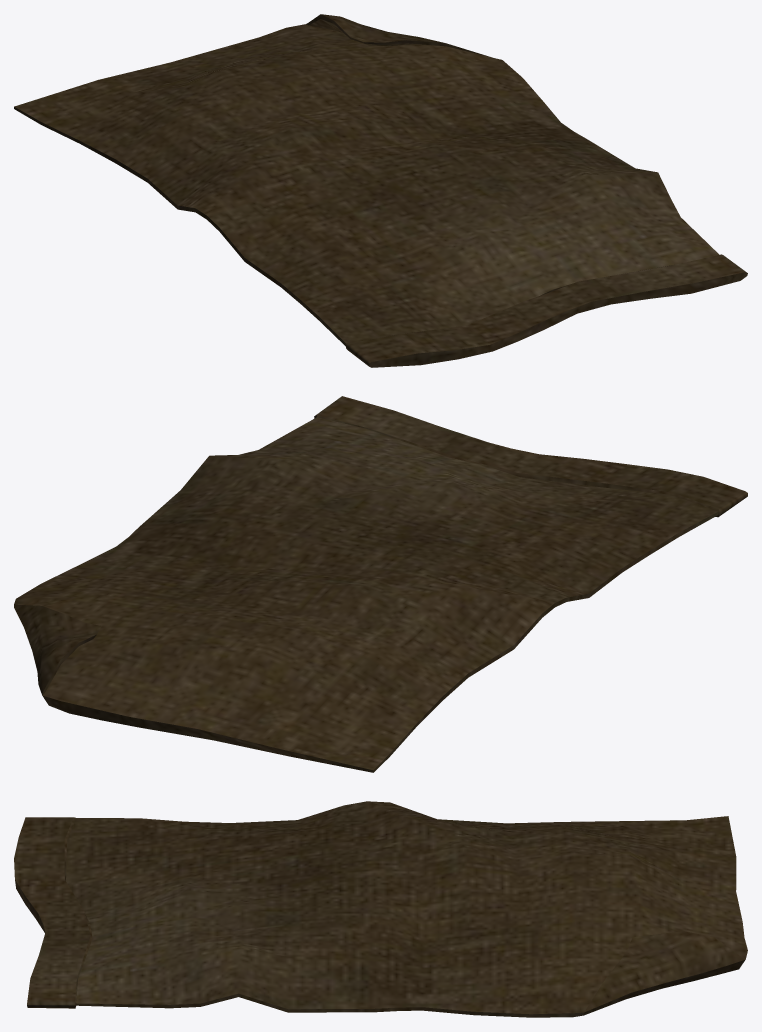
File: Sack04.fbx
3 renders of one model, top to bottom at view 1: azimuth 30°, elevation 25°; view 2: azimuth 150°, elevation 25°; view 3: azimuth 270°, elevation 25°, orthographic. The views are drawn at different scales.
Visible parts, largest first — view 1: Sack04; view 2: Sack04; view 3: Sack04.
Boxes of the visible parts, x1,y1,x2,y2 form: Sack04: (14,14,747,367); Sack04: (14,396,747,772); Sack04: (14,801,747,1017).
Bounding box in the file's own units: 42.18 × 5.27 × 65.35.
